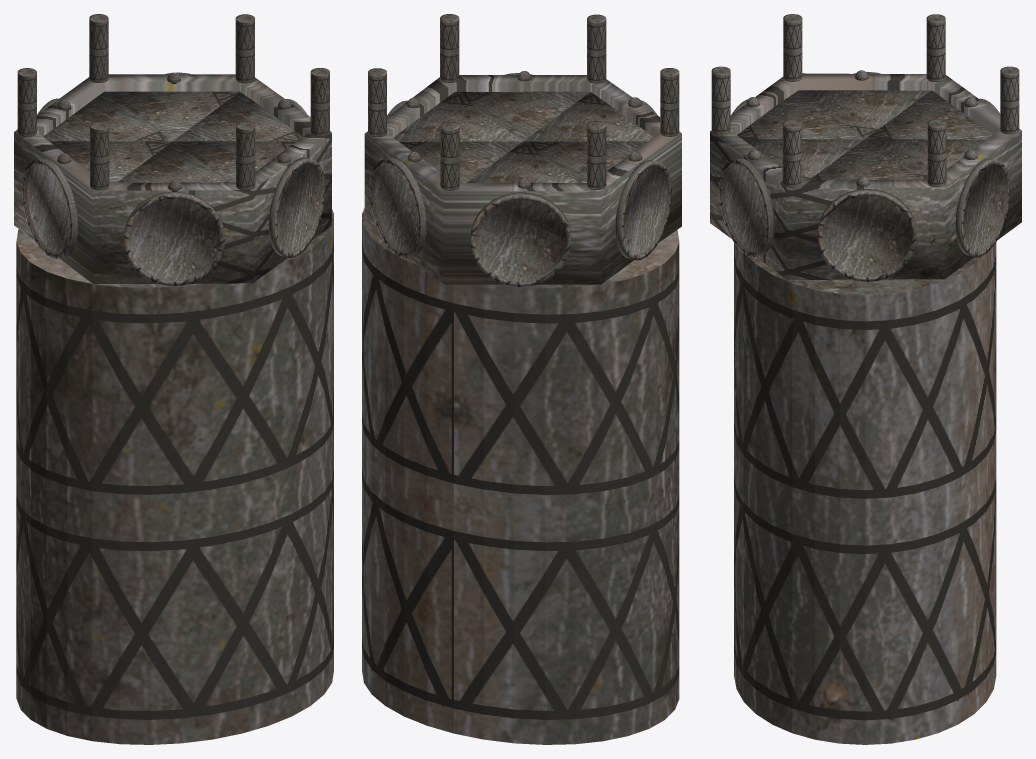
File: Totem-BossZona1.fbx
3 renders of one model, left to right at view 1: azimuth 30°, elevation 25°; view 2: azimuth 150°, elevation 25°; view 3: azimuth 270°, elevation 25°, orthographic.
Parts seen in each view (by area): view 1: Cylinder.014; view 2: Cylinder.014; view 3: Cylinder.014.
Part boxes in pixels (left/top/right/bottom): Cylinder.014: left=14, top=14, right=333, bottom=744; Cylinder.014: left=362, top=14, right=681, bottom=744; Cylinder.014: left=710, top=14, right=1021, bottom=744.
Size of the model in its own units: 2 by 4.07 by 1.9.
Materials: 1 (1 with a texture image).
